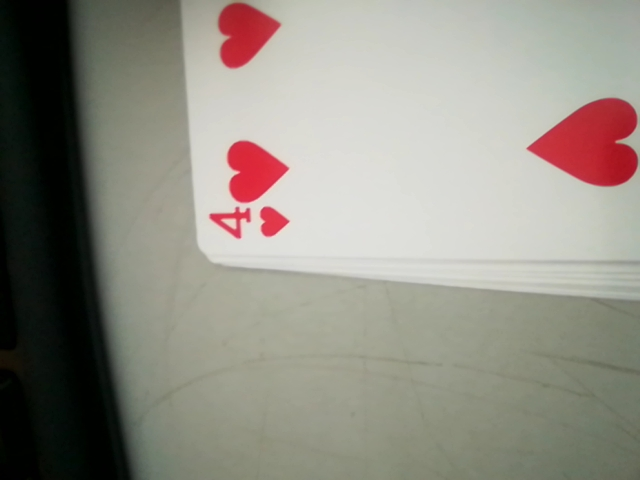hx 4: (205, 198, 290, 255)
